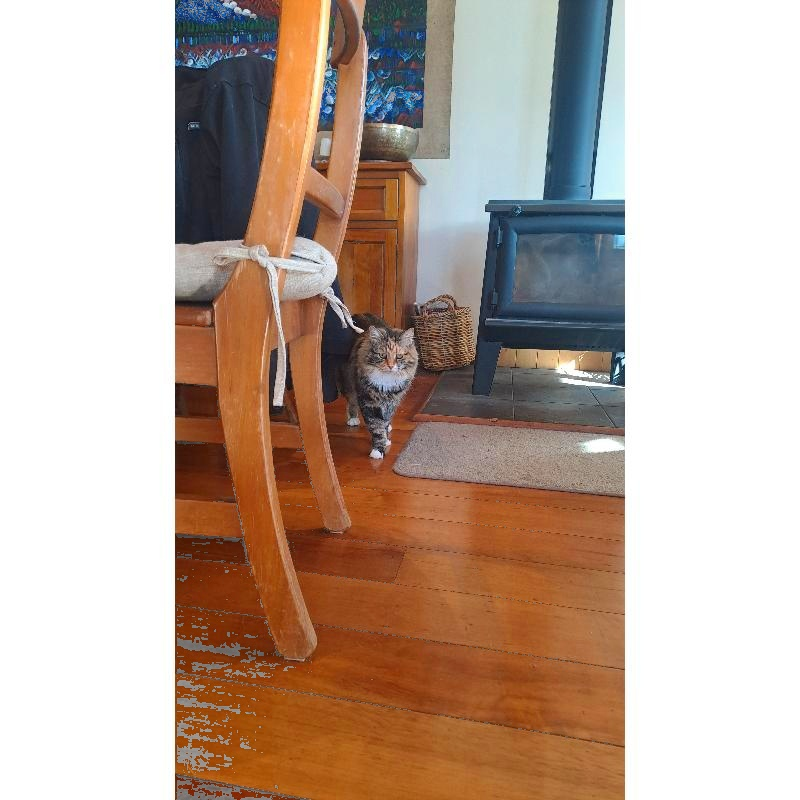red: (348, 315, 419, 459)
